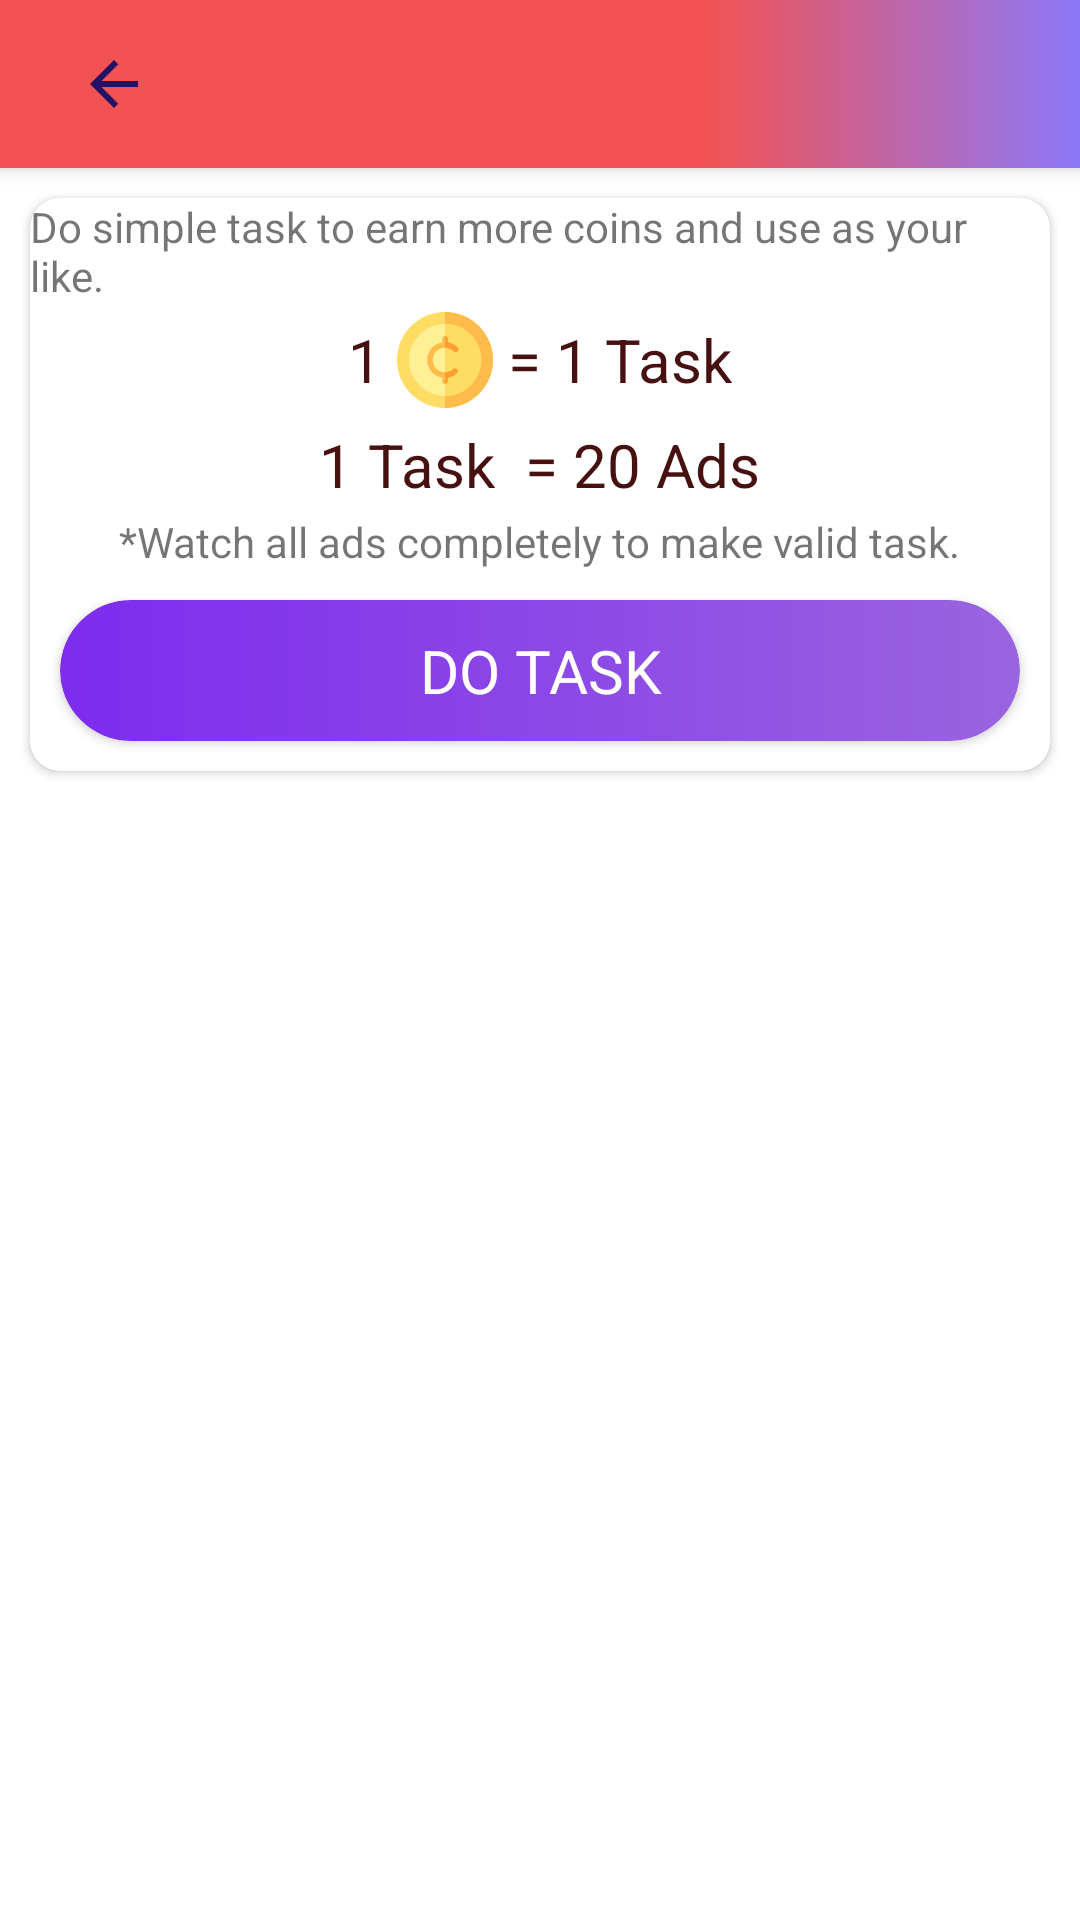

Where to tap for icons on this 1080*1920 app screen, as [x,y]:
arrow back: [114,84]
cent: [445,360]
